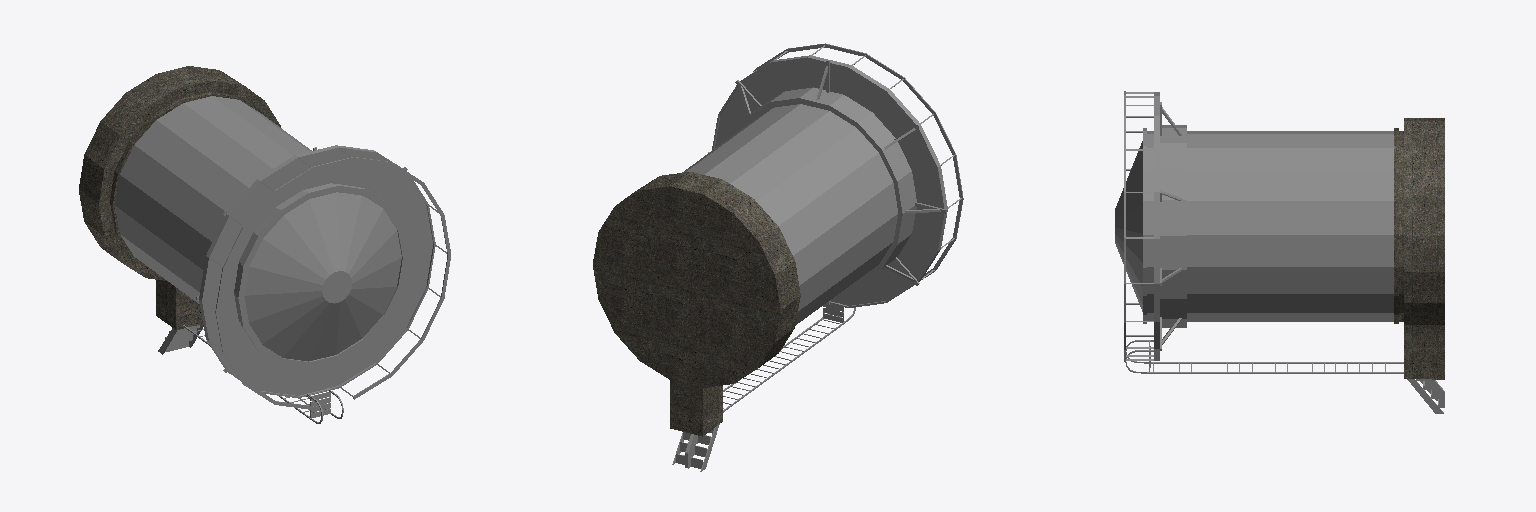
3 views of the same model, side by side, from view 1: azimuth 30°, elevation 25°; view 2: azimuth 150°, elevation 25°; view 3: azimuth 270°, elevation 25° (orthographic).
Visible parts, largest first — view 1: MDL_Obje18, MDL_Tube11; view 2: MDL_Obje18, MDL_Tube11; view 3: MDL_Obje18, MDL_Tube11.
Boxes of the visible parts, box(x1,y1,x2,y2) form: MDL_Obje18: box(79, 66, 408, 368); MDL_Tube11: box(158, 145, 450, 423); MDL_Obje18: box(593, 104, 897, 436); MDL_Tube11: box(672, 43, 963, 471); MDL_Obje18: box(1115, 118, 1444, 379); MDL_Tube11: box(1124, 91, 1444, 413).
Bounding box in the file's own units: 7.95 × 9.71 × 9.55.
2 materials, 1 textured.